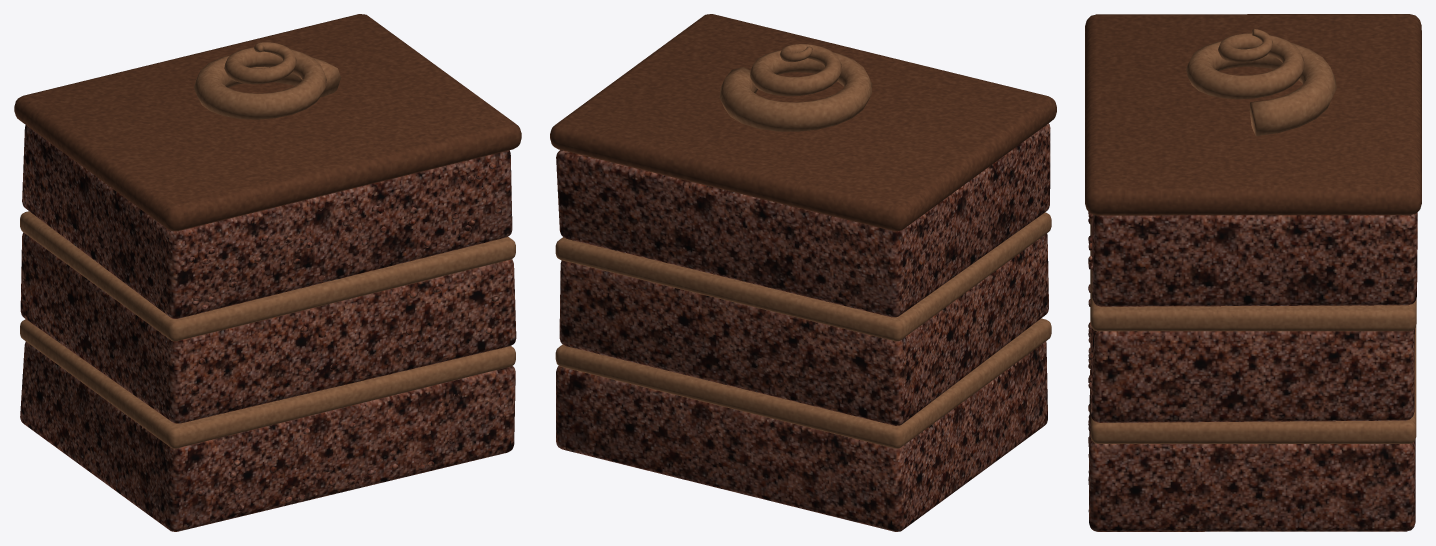
Rendered from chocolate_cake.glb.
3 renders of one model, left to right at view 1: azimuth 30°, elevation 25°; view 2: azimuth 150°, elevation 25°; view 3: azimuth 270°, elevation 25°, orthographic. The views are drawn at different scales.
Visible parts, largest first — view 1: chocolate_cake; view 2: chocolate_cake; view 3: chocolate_cake.
Part boxes in pixels (x1,y1,x2,y2): chocolate_cake: (14,14,521,531); chocolate_cake: (550,14,1056,531); chocolate_cake: (1085,14,1421,531).
Size of the model in its own units: 0.059 by 0.0626 by 0.046.
1 material, 1 textured.
